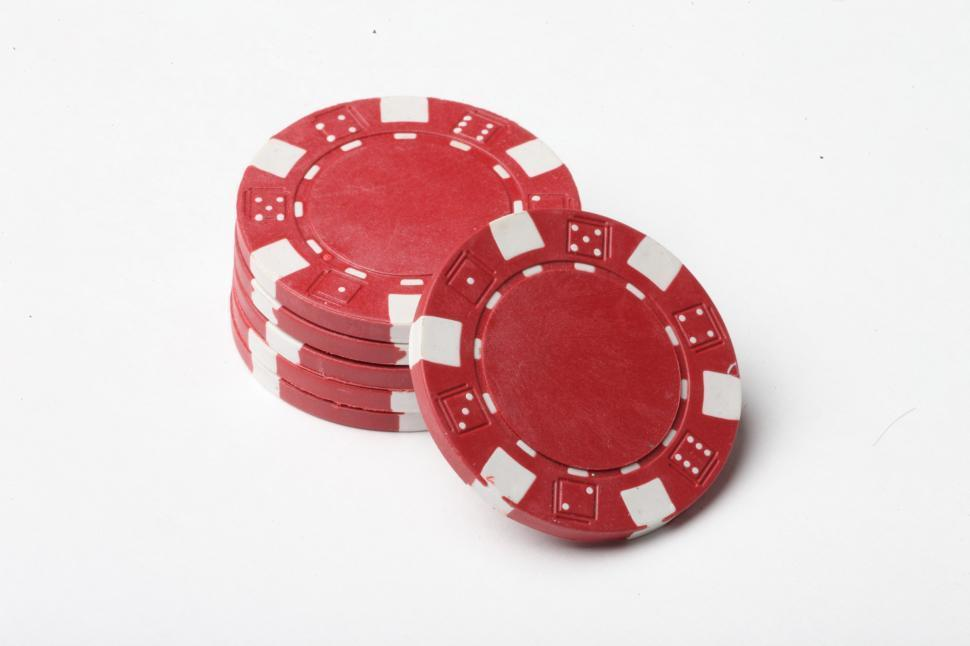chip-red: (409, 208, 741, 541), (258, 299, 407, 365), (297, 345, 411, 389), (235, 250, 256, 296)
